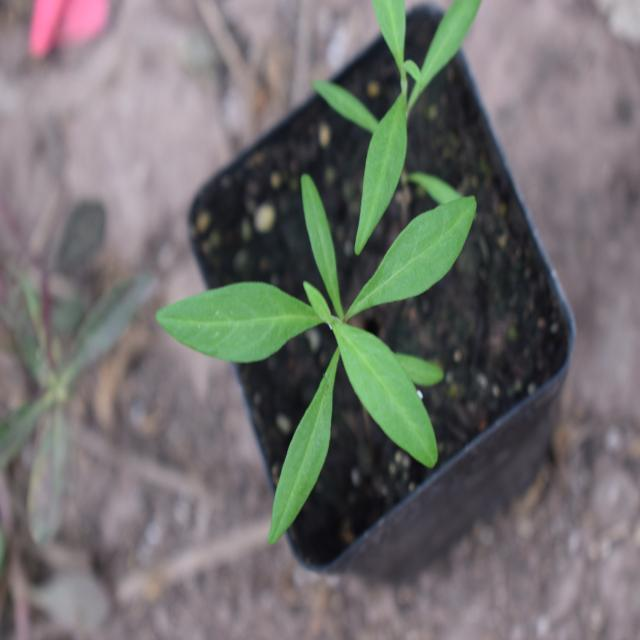white_smart_weed: (165, 174, 481, 513)
